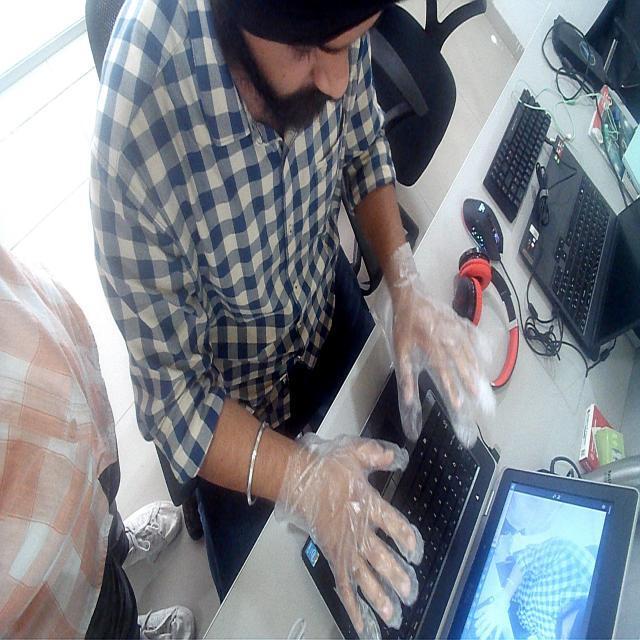with_gloves: (277, 437, 433, 633), (382, 252, 514, 428)
